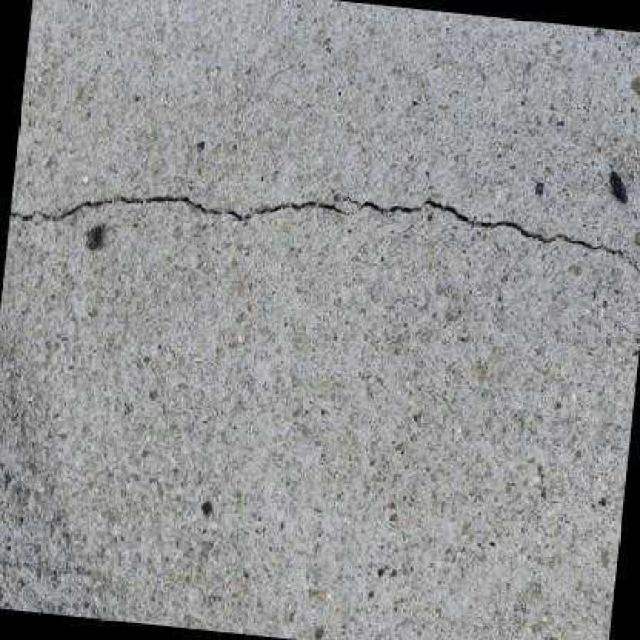D00: (341, 194, 640, 274), (9, 191, 344, 222)
